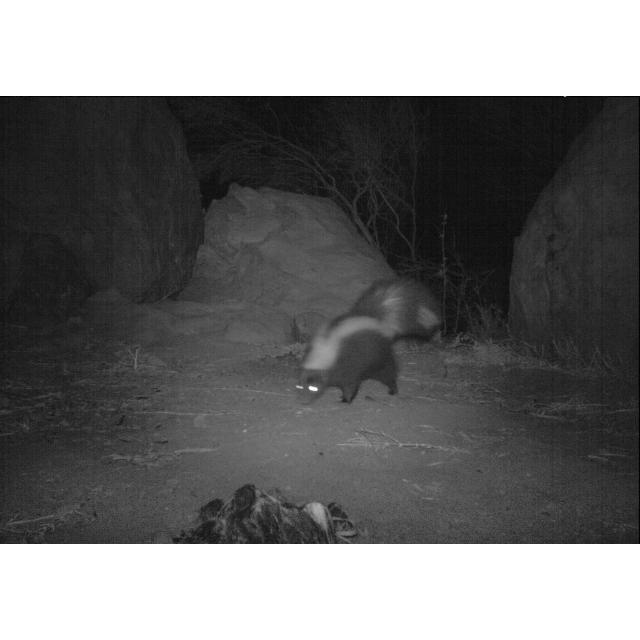animals: (290, 268, 448, 409)
